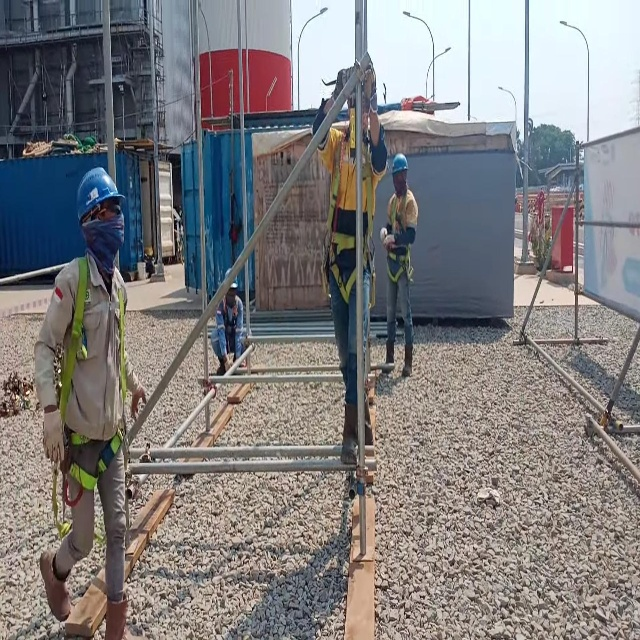Arnes_seguridad: (50, 250, 128, 538), (320, 130, 376, 311), (383, 187, 416, 290), (220, 295, 240, 362)
